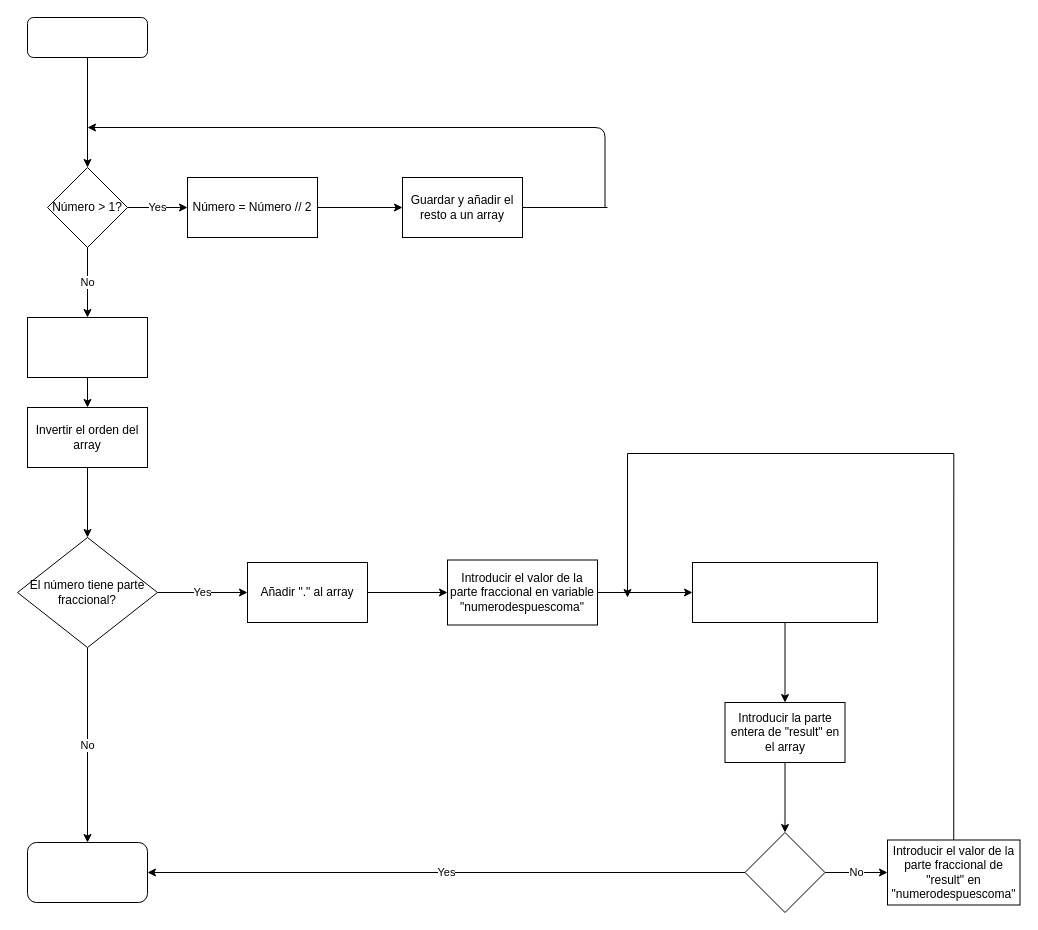
This 1038x930 diagram has some shape labels left out. The shapes that lost their labels are listed below. From the top down, each one's centre as x and y in pixels, then its label:
At point 87,37: "NÚMERO DECIMAL".
At point 87,347: "Añadir el resultado de la ultima división al array".
At point 785,592: "result = numerodespuescoma * 2".
At point 87,872: "NÚMERO BINARIO".
At point 784,872: "result == 0?".
